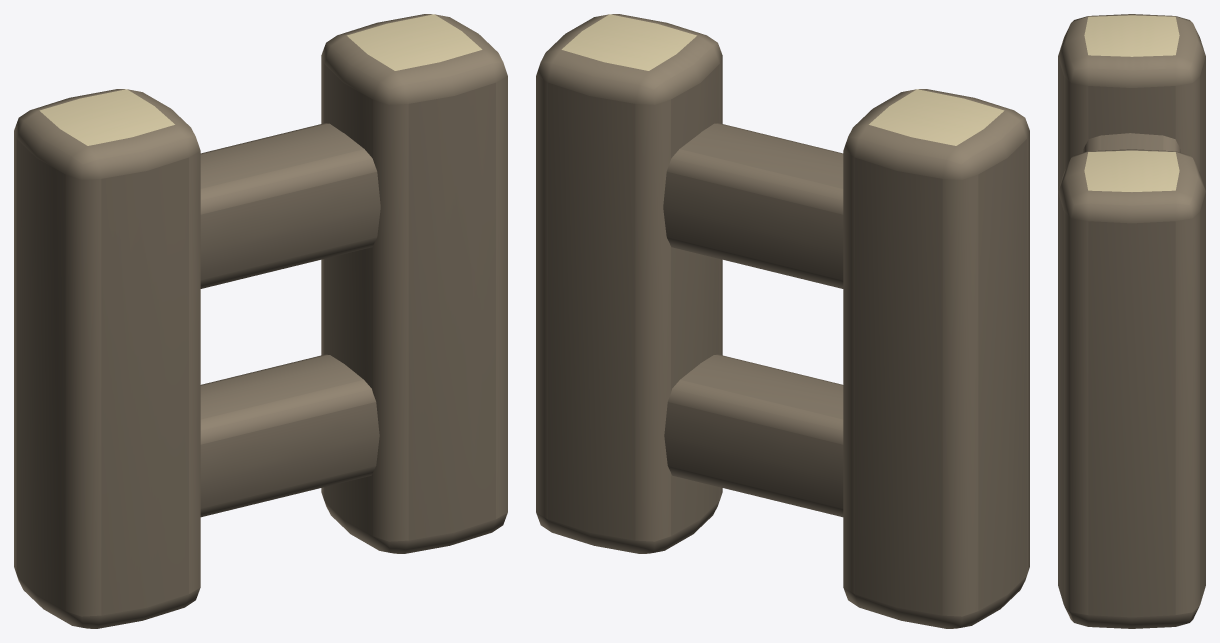
The model's file is DryWood_Ladder.fbx.
3 renders of one model, left to right at view 1: azimuth 30°, elevation 25°; view 2: azimuth 150°, elevation 25°; view 3: azimuth 270°, elevation 25°, orthographic. The views are drawn at different scales.
Parts seen in each view (by area): view 1: DryWood_Ladder_LOD0; view 2: DryWood_Ladder_LOD0; view 3: DryWood_Ladder_LOD0.
Boxes of the visible parts, x1,y1,x2,y2 form: DryWood_Ladder_LOD0: (14, 14, 507, 628); DryWood_Ladder_LOD0: (536, 14, 1029, 628); DryWood_Ladder_LOD0: (1058, 14, 1205, 628).
Size of what is drawn, in the model's own units: 1.02 by 1.05 by 0.3234.
